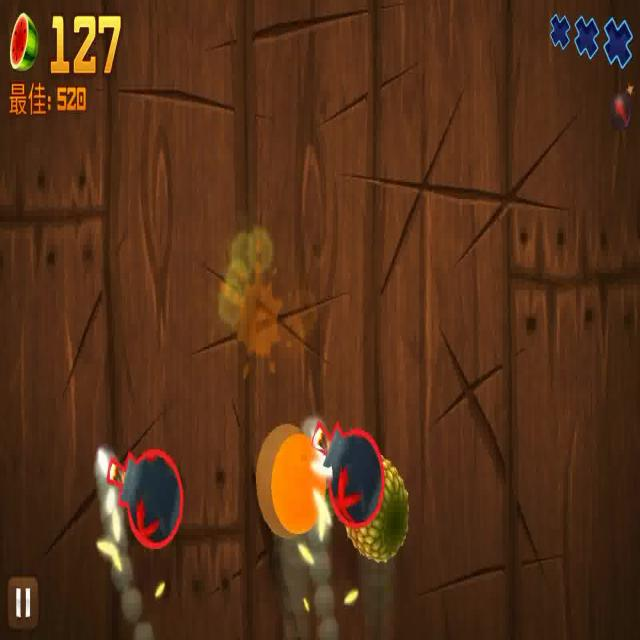bomb: (306, 414, 384, 528), (101, 447, 182, 554)
fruit: (346, 458, 410, 566), (271, 435, 325, 534)
